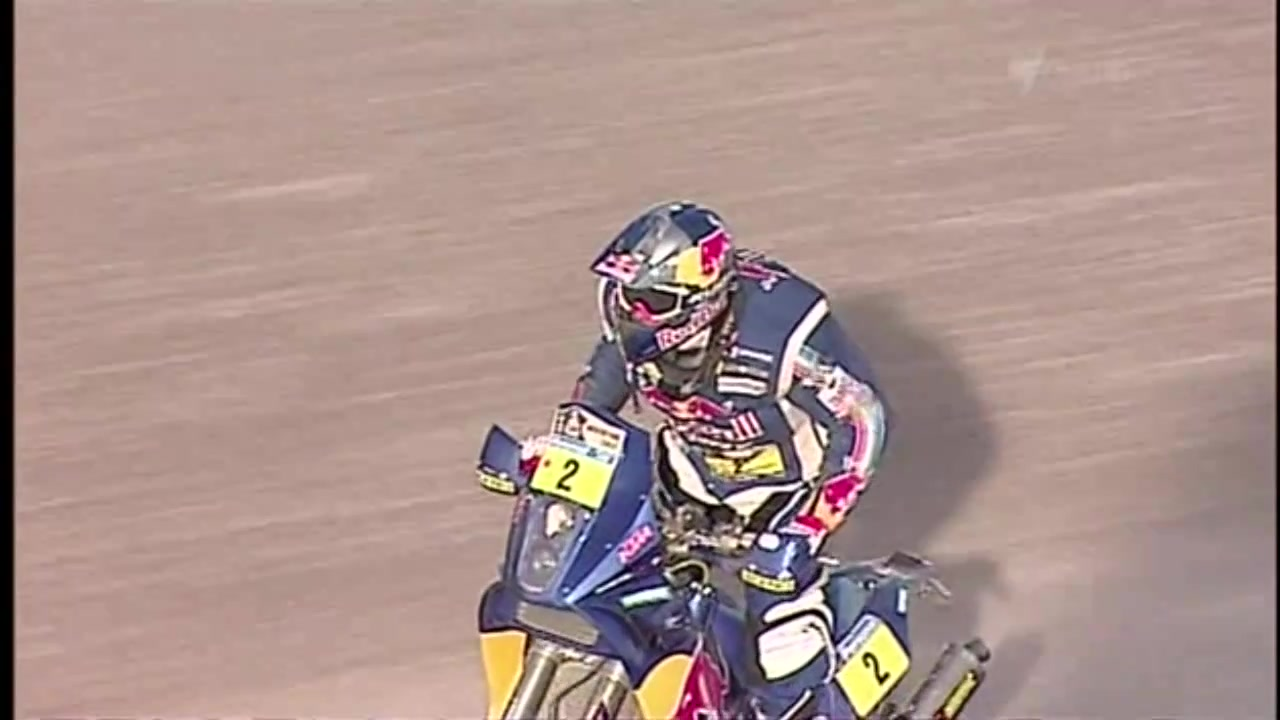motorbike: (469, 391, 993, 720)
